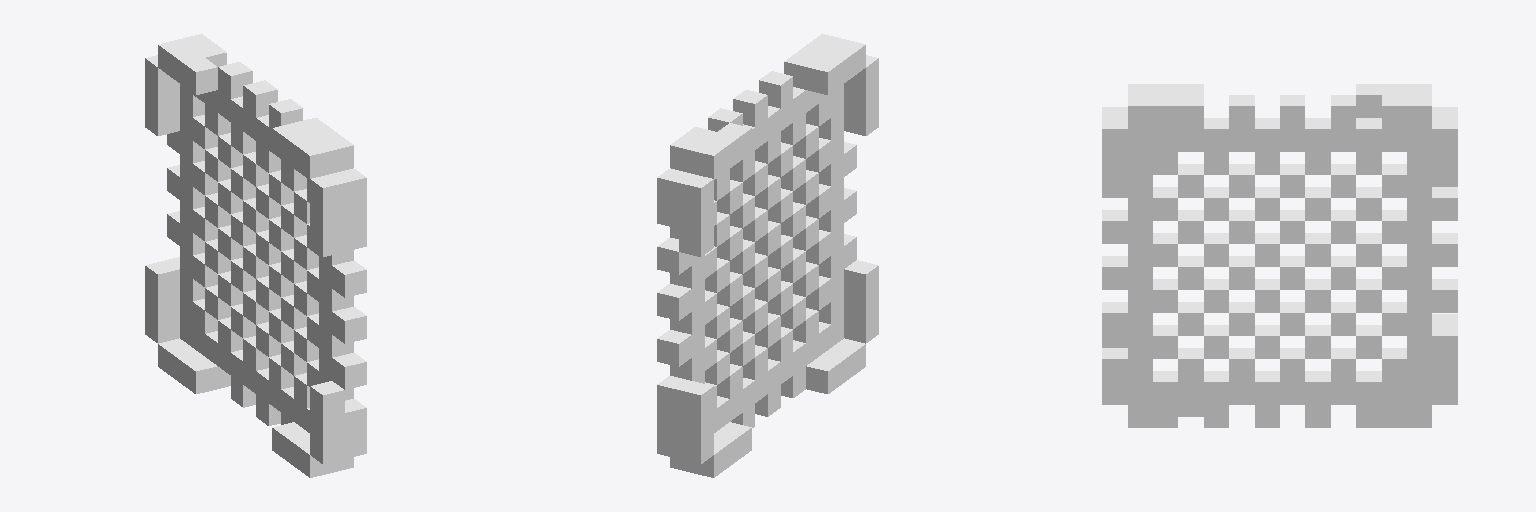
The model's file is grate_xp.obj.
3 views of the same model, side by side, from view 1: azimuth 30°, elevation 25°; view 2: azimuth 150°, elevation 25°; view 3: azimuth 270°, elevation 25° (orthographic).
Size of the model in its own units: 2 by 14 by 14.